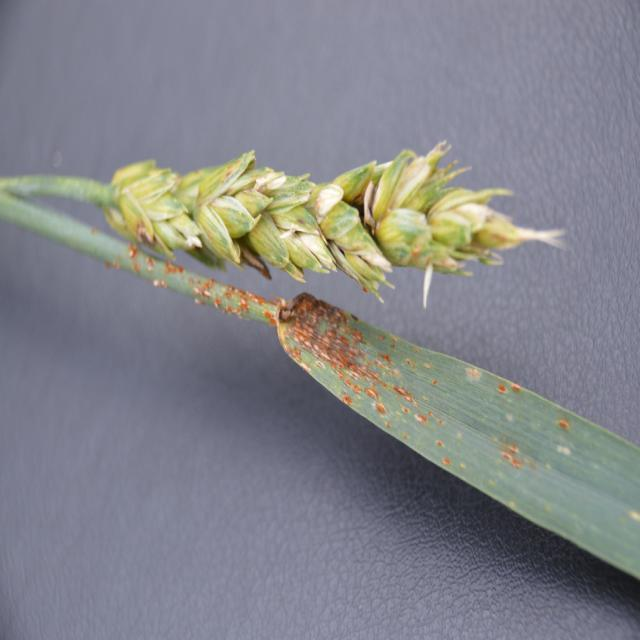Stem_Rust: (130, 233, 550, 467)
